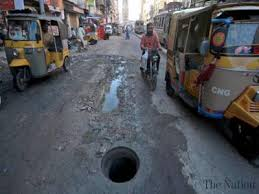Manhole-Open: (97, 142, 149, 184)
human: (134, 21, 163, 77)
